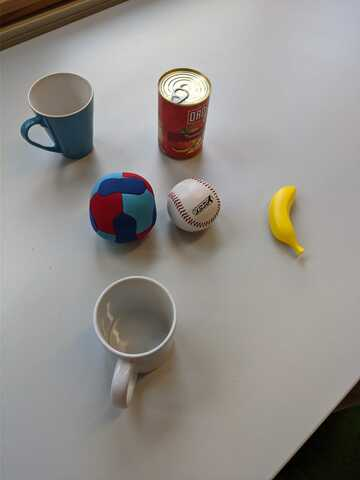005_tomato_soup_can: (155, 68, 213, 160)
011_banana: (264, 184, 309, 264)
025_mug: (89, 275, 181, 408), (18, 71, 96, 159)
055_baseball: (165, 177, 225, 234)
057_racquetball: (84, 171, 160, 243)
